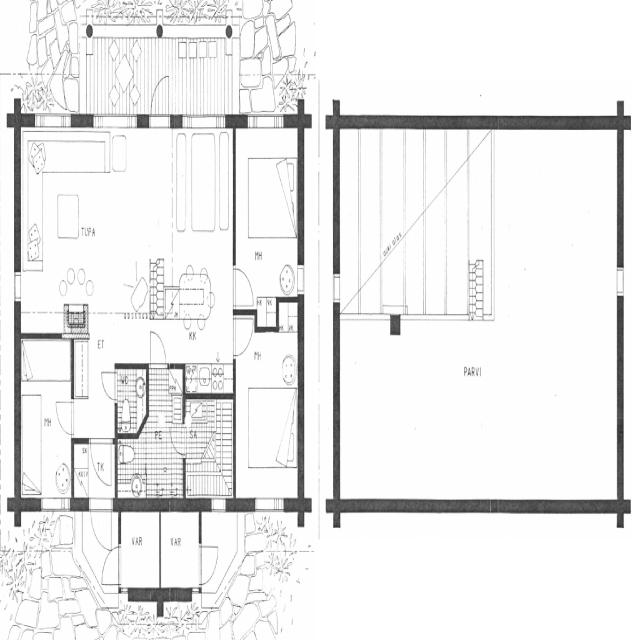door: (146, 70, 174, 134), (88, 433, 117, 489), (230, 309, 257, 362), (230, 261, 257, 314), (89, 495, 114, 552), (195, 536, 221, 589), (100, 544, 122, 591), (54, 395, 76, 441), (166, 417, 188, 460), (98, 364, 120, 406), (147, 325, 168, 369)
window: (29, 102, 78, 134), (243, 106, 290, 135), (84, 106, 134, 132), (179, 108, 226, 133), (250, 493, 288, 520), (37, 494, 71, 518), (614, 259, 628, 314), (11, 265, 23, 315), (207, 496, 230, 518), (332, 267, 343, 308), (117, 586, 129, 606)
zone: (491, 119, 618, 516), (15, 129, 168, 309), (232, 116, 301, 304), (234, 320, 301, 504), (169, 118, 235, 279), (19, 330, 74, 508), (117, 386, 185, 499), (184, 391, 236, 503), (120, 502, 159, 594), (116, 361, 148, 433)
